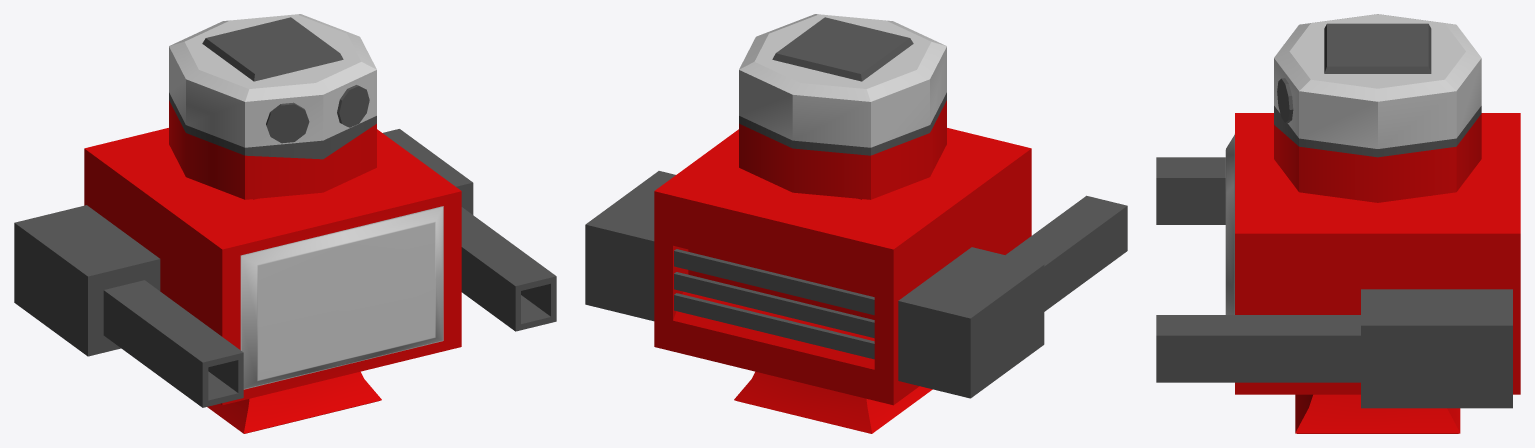
File: Robot.fbx
3 views of the same model, side by side, from view 1: azimuth 30°, elevation 25°; view 2: azimuth 150°, elevation 25°; view 3: azimuth 270°, elevation 25° (orthographic). The views are drawn at different scales.
Parts seen in each view (by area): view 1: robot_body, robot_gun, robot_gun1, robot_eyes1, robot_eyes; view 2: robot_body, robot_gun, robot_gun1, robot_grill, robot_grill2, robot_grill1; view 3: robot_body, robot_gun1, robot_gun, robot_eyes.
Boxes of the visible parts, x1=… form: robot_body: x1=84, y1=14, x2=461, y2=433; robot_gun: x1=14, y1=205, x2=243, y2=407; robot_gun1: x1=383, y1=129, x2=556, y2=331; robot_eyes1: x1=266, y1=102, x2=309, y2=143; robot_eyes: x1=337, y1=85, x2=369, y2=127; robot_body: x1=654, y1=14, x2=1031, y2=433; robot_gun: x1=898, y1=195, x2=1127, y2=398; robot_gun1: x1=585, y1=171, x2=675, y2=321; robot_grill: x1=674, y1=249, x2=874, y2=315; robot_grill2: x1=674, y1=293, x2=874, y2=359; robot_grill1: x1=674, y1=272, x2=874, y2=338; robot_body: x1=1225, y1=14, x2=1520, y2=433; robot_gun1: x1=1156, y1=289, x2=1512, y2=408; robot_gun: x1=1156, y1=157, x2=1225, y2=224; robot_eyes: x1=1277, y1=78, x2=1293, y2=123.
Bounding box in the file's own units: 3.08 × 2.63 × 2.44.
